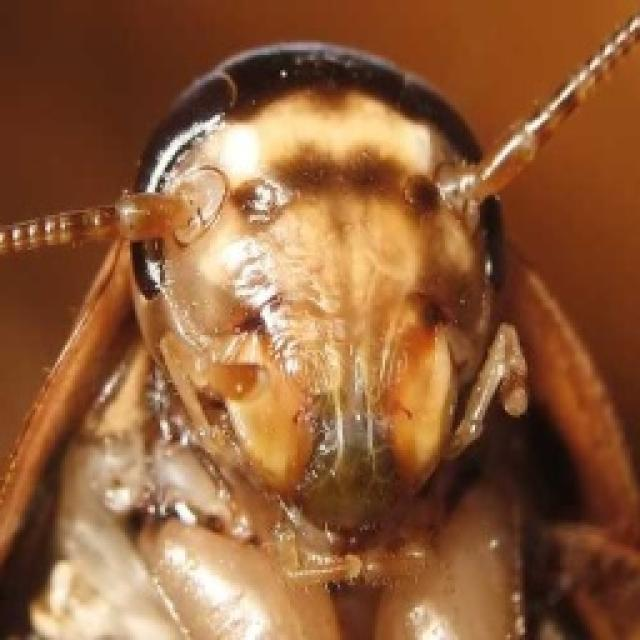cockroach: (8, 29, 636, 636)
